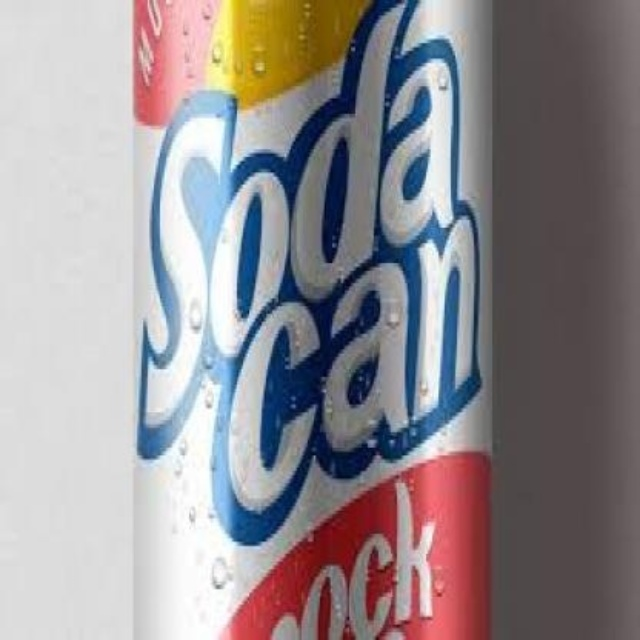trash: (134, 0, 488, 638)
